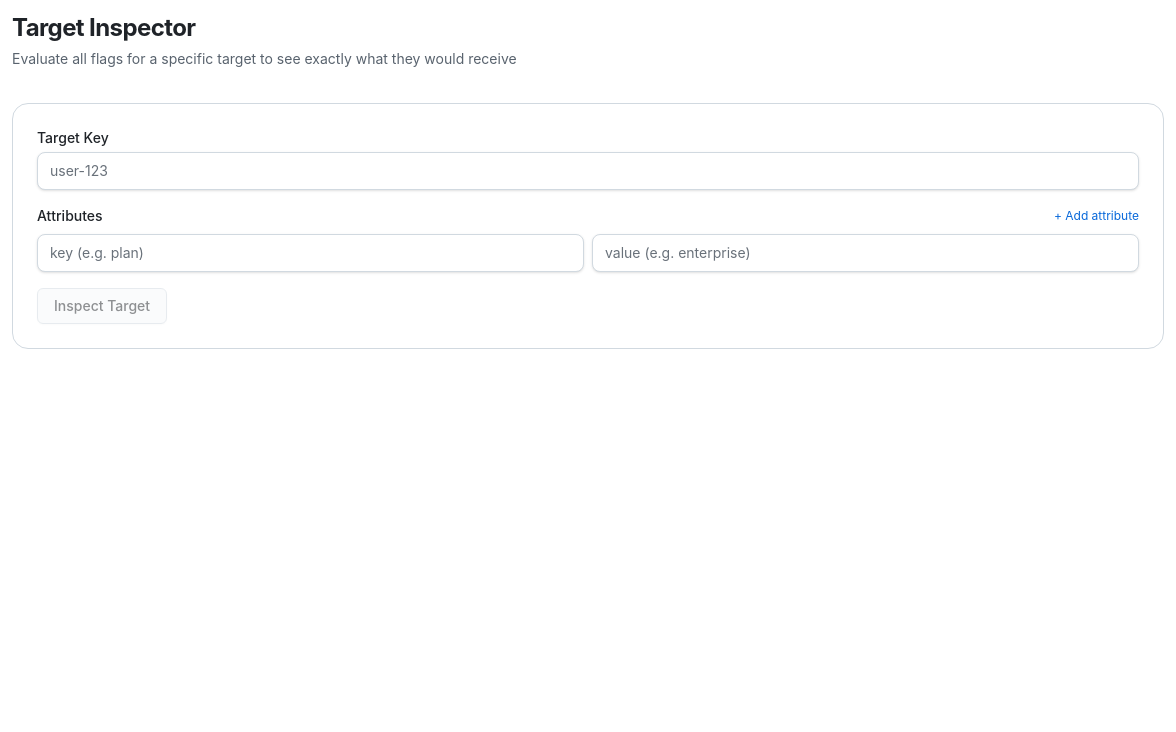
TargetInspectorPage › displays evaluation results
Type "user-abc" into the field with placeholder "user-123" at (588, 171), box [37, 152, 1139, 190]
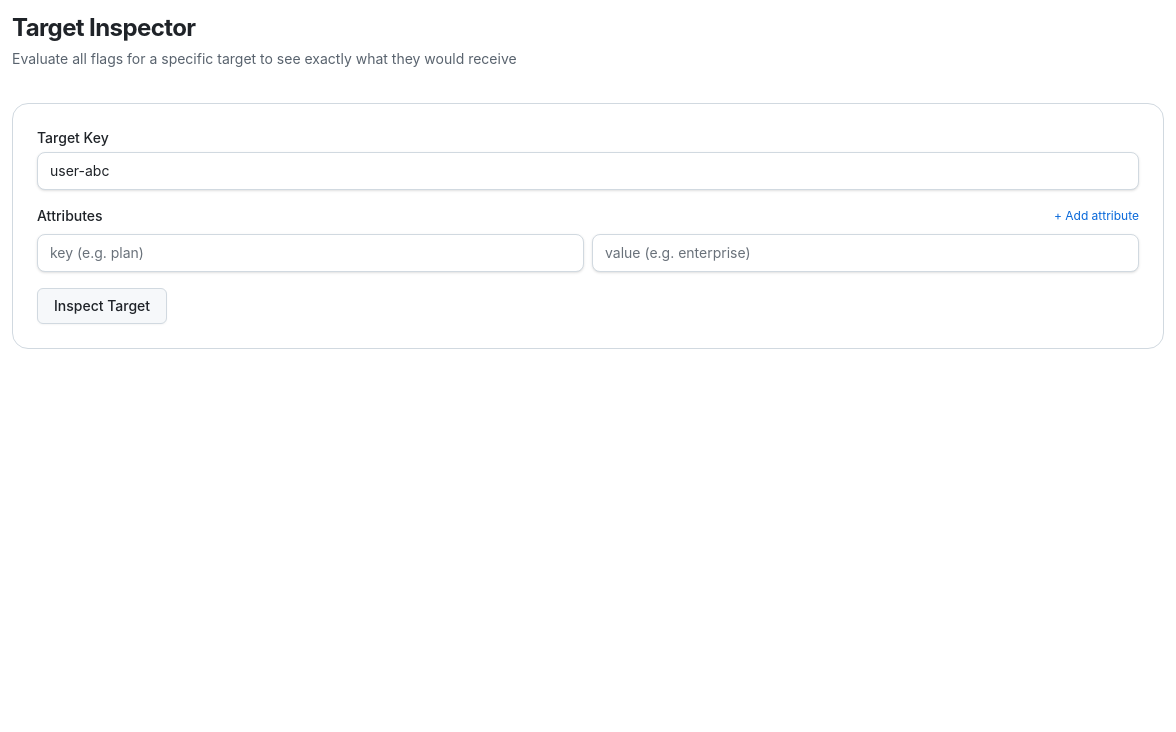
Submit the text "Inspect Target", box [12, 103, 1164, 349]
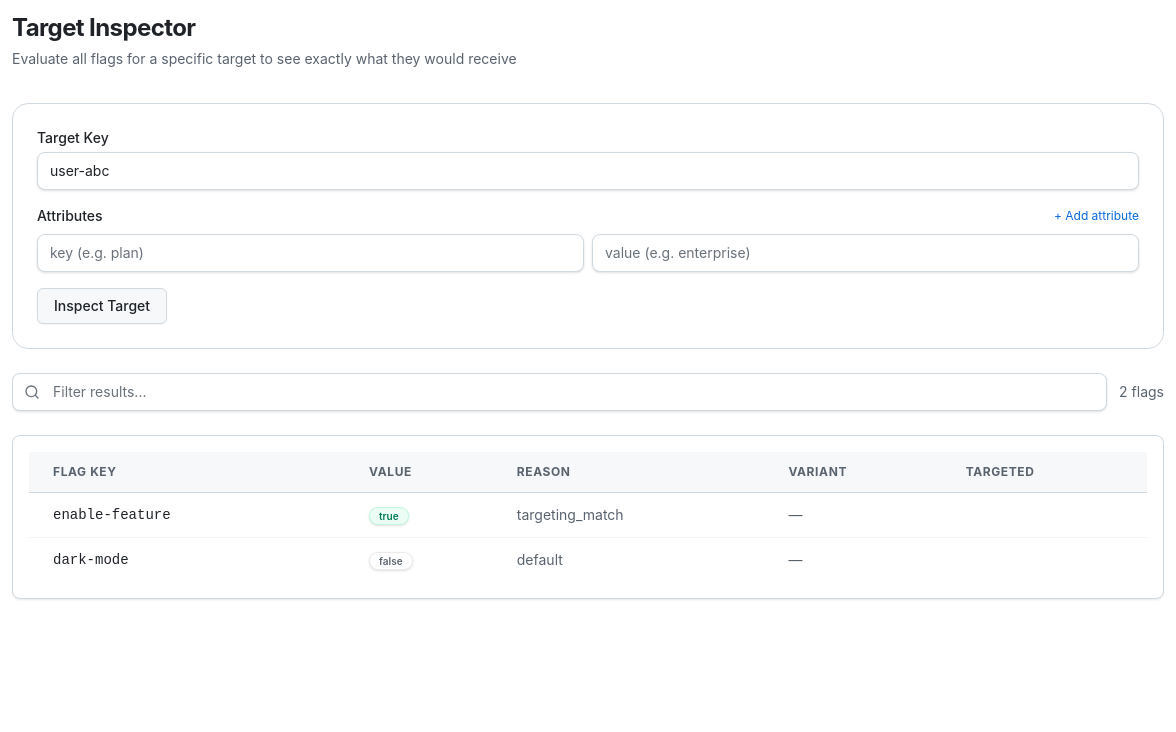
Now the text "enable-feature" is shown, box [29, 492, 353, 538]
Now the text "true" is shown, box [369, 507, 409, 525]
Now the text "targeting_match" is shown, box [501, 492, 772, 538]
